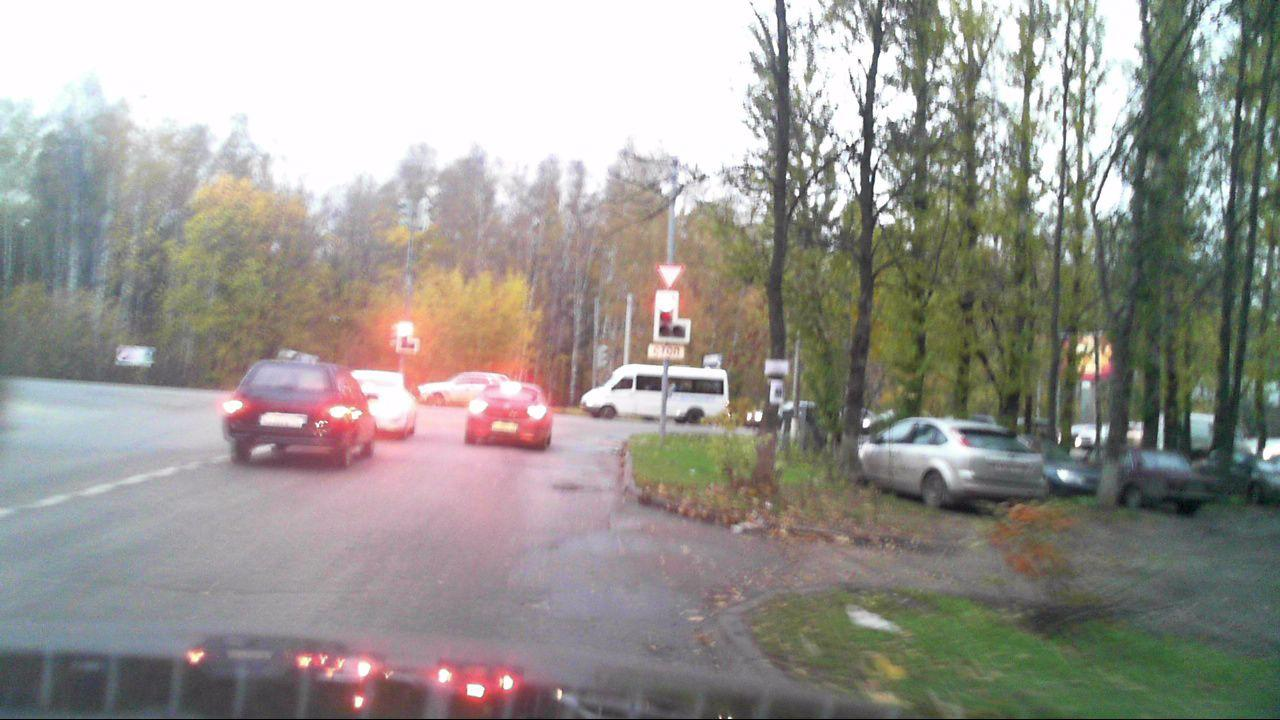2_4: (655, 262, 683, 291)
6_16: (647, 342, 686, 361)
